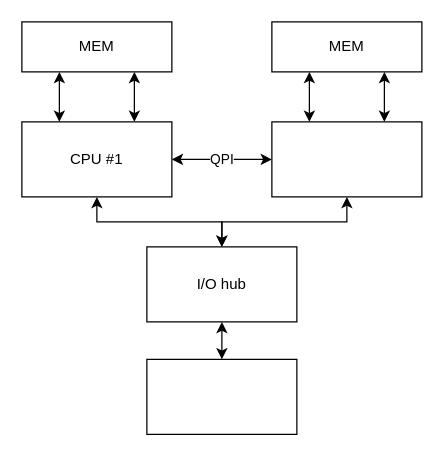
This 444x456 diagram has some shape labels left out. The centre of each missing label's shape, as x and y in pixels:
CPU #2: [346,159]
I/O controller hub (ICH): [221,396]
